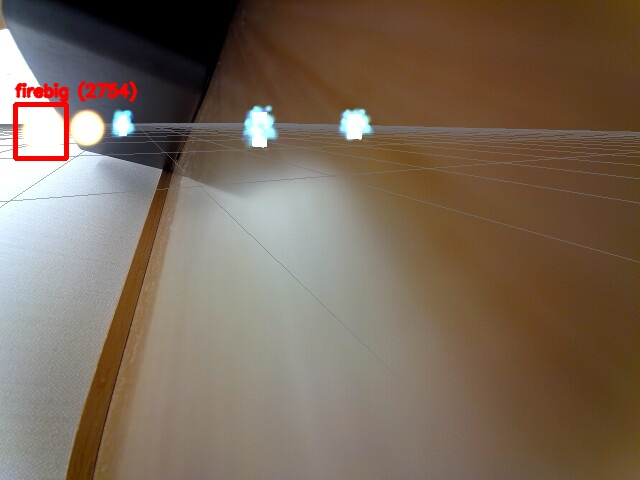firebig: (15, 104, 66, 158)
